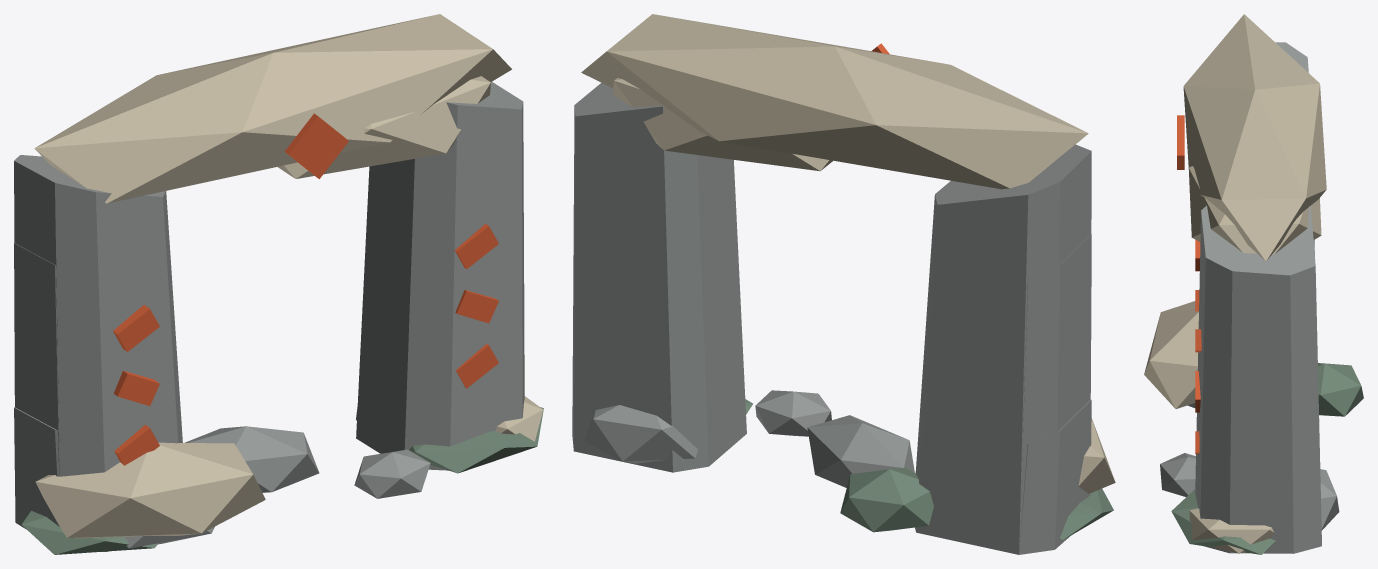
Rendered from standing_stone_gate_stages.glb.
The picture shows the model from 3 angles, left to right: view 1: azimuth 30°, elevation 25°; view 2: azimuth 150°, elevation 25°; view 3: azimuth 270°, elevation 25°; orthographic projection. The views are drawn at different scales.
Parts seen in each view (by area): view 1: Stage_Intact, Stage_Damaged, Stage_Rubble, Stage_Critical; view 2: Stage_Intact, Stage_Damaged, Stage_Critical, Stage_Rubble; view 3: Stage_Intact, Stage_Damaged, Stage_Critical, Stage_Rubble.
Boxes of the visible parts, bbox=[...] form: Stage_Intact: bbox=[14, 14, 543, 554]; Stage_Damaged: bbox=[14, 76, 490, 538]; Stage_Rubble: bbox=[125, 396, 543, 548]; Stage_Critical: bbox=[14, 407, 430, 547]; Stage_Intact: bbox=[572, 14, 1113, 554]; Stage_Damaged: bbox=[612, 78, 1115, 553]; Stage_Critical: bbox=[586, 390, 1091, 554]; Stage_Rubble: bbox=[585, 390, 933, 532]; Stage_Intact: bbox=[1171, 14, 1326, 554]; Stage_Damaged: bbox=[1144, 166, 1321, 553]; Stage_Critical: bbox=[1164, 367, 1337, 553]; Stage_Rubble: bbox=[1160, 363, 1363, 553].
Size of what is drawn, in the model's own units: 3.77 by 3.08 by 1.64.
